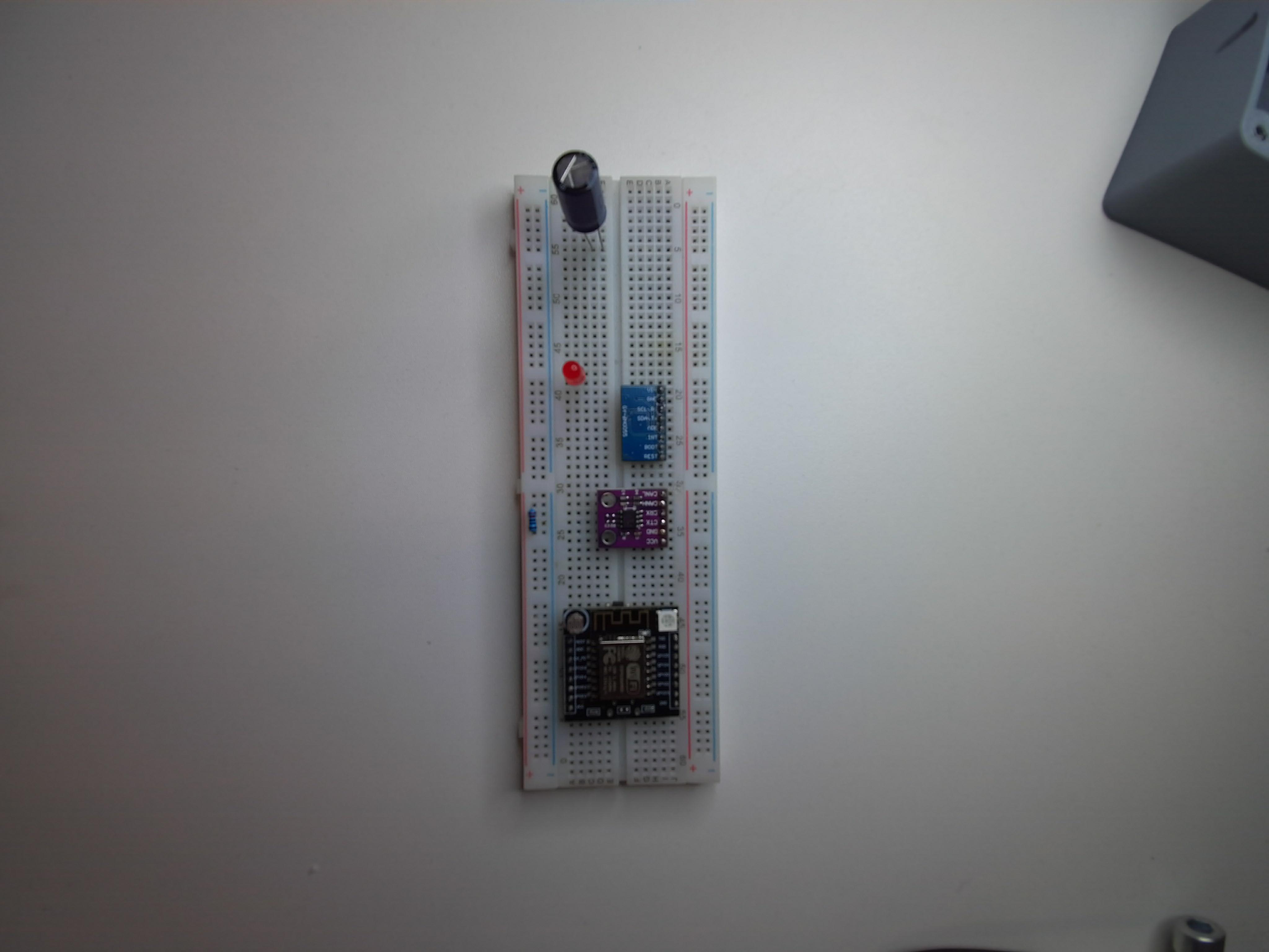base: (505, 160, 722, 796)
blue-board: (617, 380, 667, 466)
capacitor: (550, 149, 608, 236)
esp: (555, 603, 685, 725)
purple-board: (594, 485, 670, 552)
red-led: (559, 355, 588, 390)
resistor-small: (525, 505, 537, 536)
